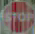Stop: (2, 3, 34, 29)
